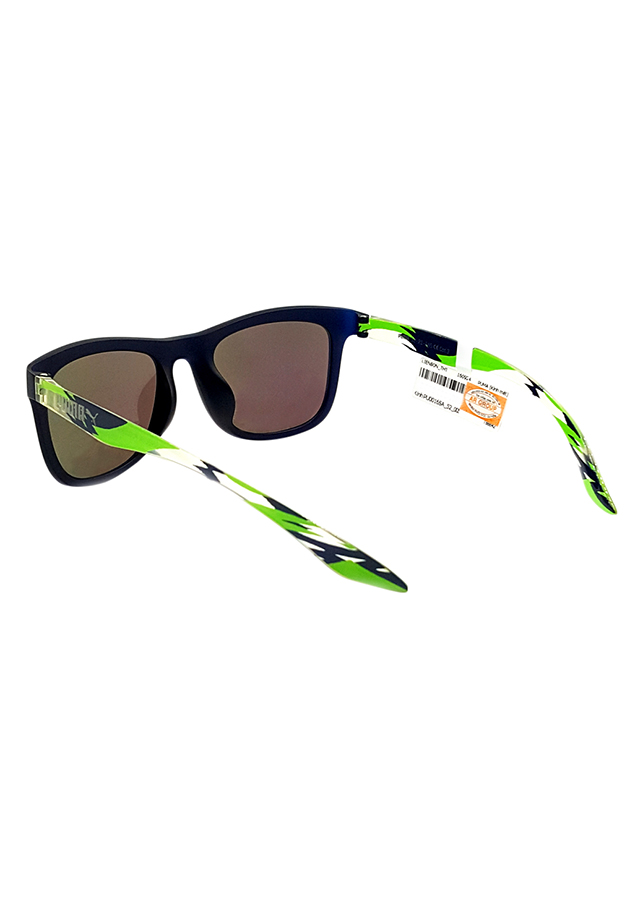Puma: (49, 387, 109, 433)
